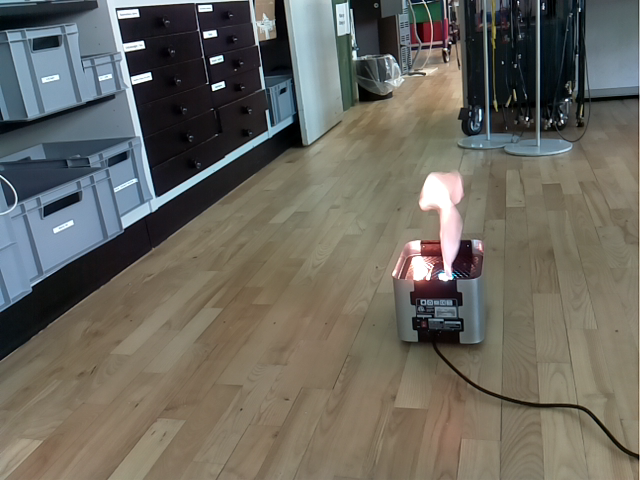fire: (419, 171, 464, 280)
